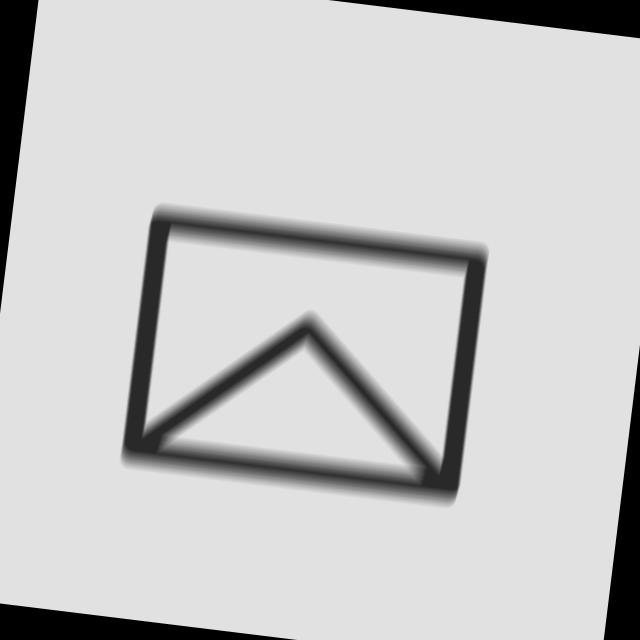letter: (117, 195, 497, 513)
